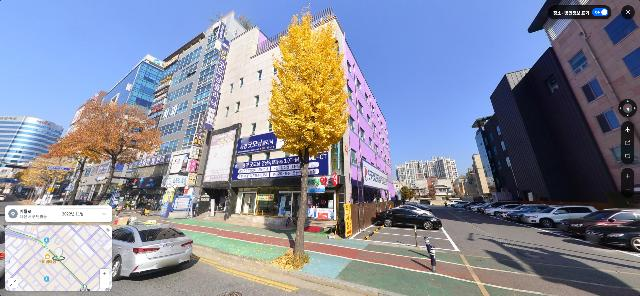ginkgo: (267, 3, 351, 271), (10, 149, 86, 205)
other: (45, 96, 163, 206)
